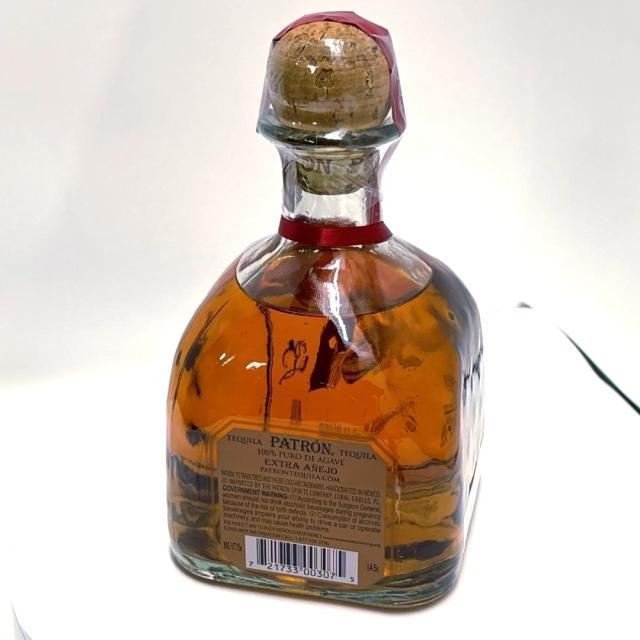Patron Extra Anejo Tequila- 750 mL Bottle- ABV 40-: (164, 6, 514, 615)
